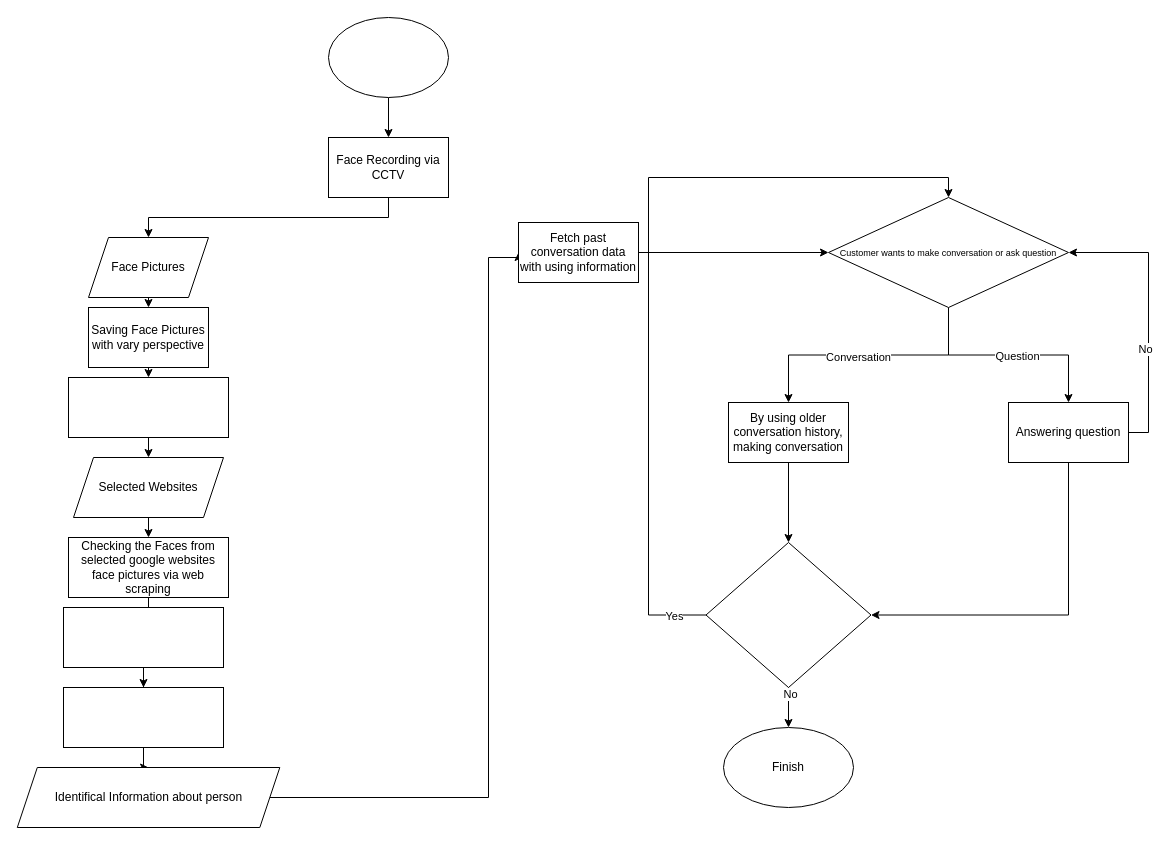
This 1175x845 diagram has some shape labels left out. The box of each missing label's shape, as (x1, y1, x2, y2) in pixels:
Comparing CCTV face pictures and website faces: (62, 606, 224, 668)
Gathering information from comparison result in internet: (62, 686, 224, 748)
If customer wants to continue using robot: (705, 542, 871, 688)
Selecting fitted websites by eliminating useless or irrelevant website resources: (68, 376, 228, 438)
Start: (328, 16, 448, 98)
